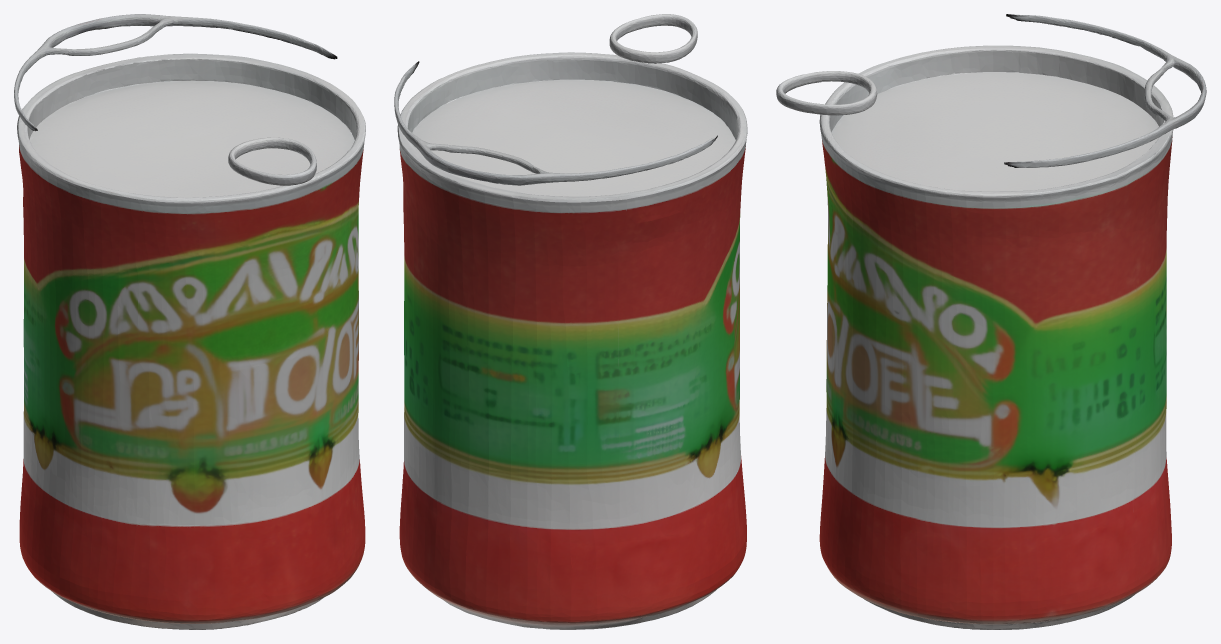
3 renders of one model, left to right at view 1: azimuth 30°, elevation 25°; view 2: azimuth 150°, elevation 25°; view 3: azimuth 270°, elevation 25°, orthographic.
Parts seen in each view (by area): view 1: world; view 2: world; view 3: world.
Part boxes in pixels (box(x1,y1,x2,y2)): world: box(14, 14, 365, 629); world: box(394, 14, 747, 629); world: box(776, 14, 1206, 629).
Size of the model in its own units: 0.677 by 1 by 0.8184.
1 material, 1 textured.
